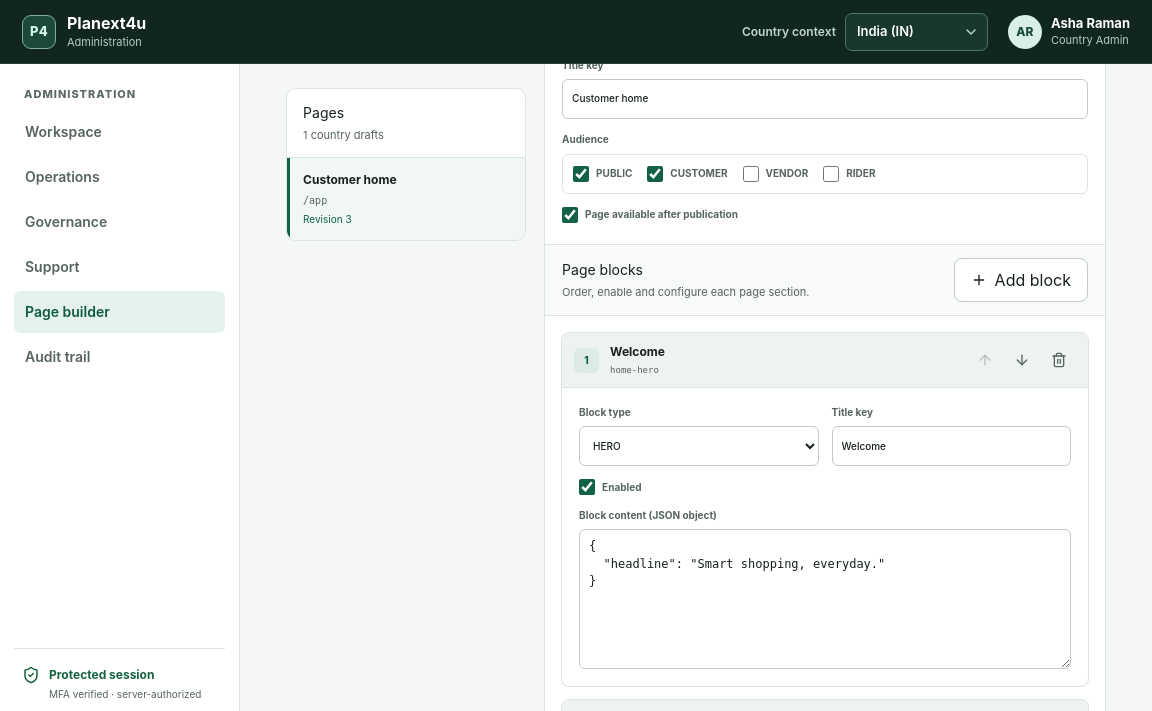
Test case: administrator application › reorders, adds, removes and publishes page blocks through controlled operations
(page scrolled)
expect the button "Add block" is shown: met, box [954, 258, 1088, 302]
Click the button named "Move Welcome down" at (1022, 360), box [1005, 343, 1039, 377]
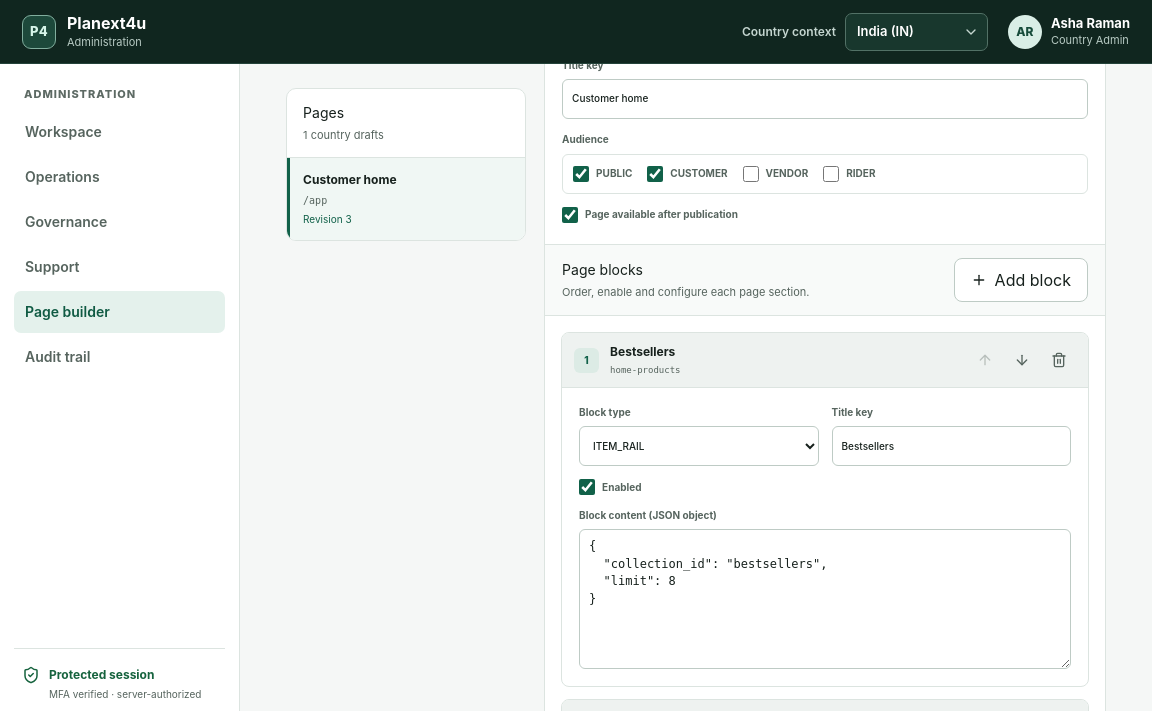
Click the button "Add block" at (1021, 280), box [954, 258, 1088, 302]
(page scrolled)
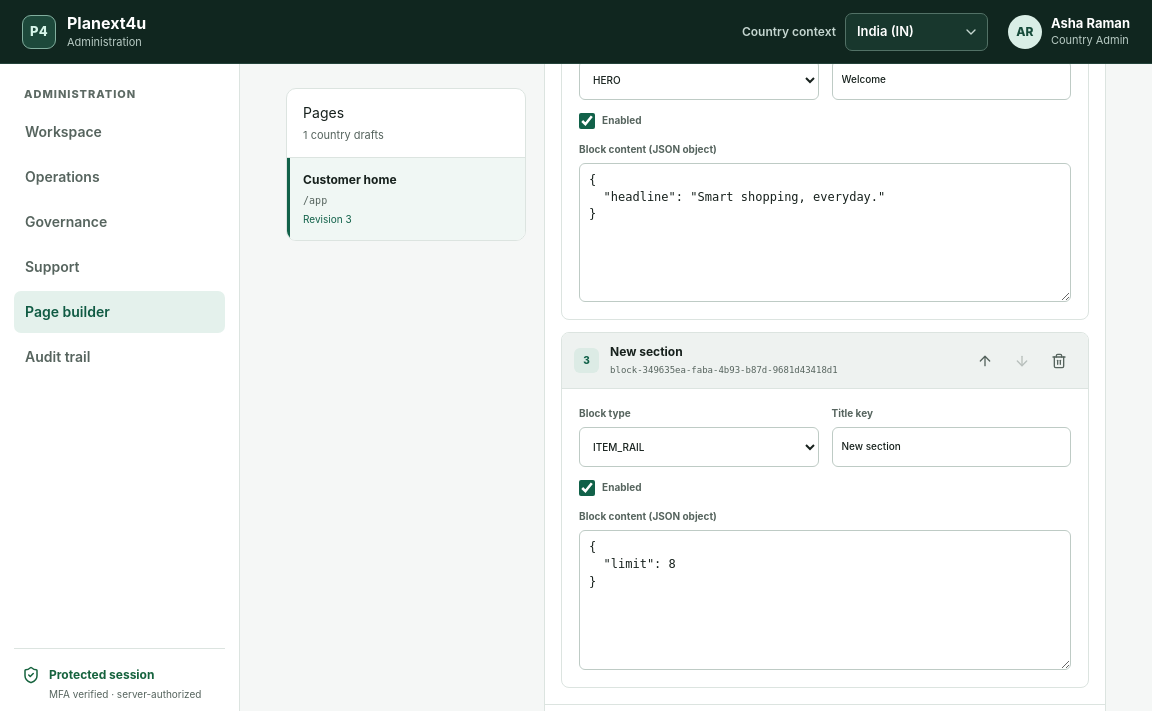
expect the text "New section" is shown: met, box [610, 344, 683, 359]
Click the button named "Remove New section" at (1059, 361), box [1042, 344, 1076, 378]
(page scrolled)
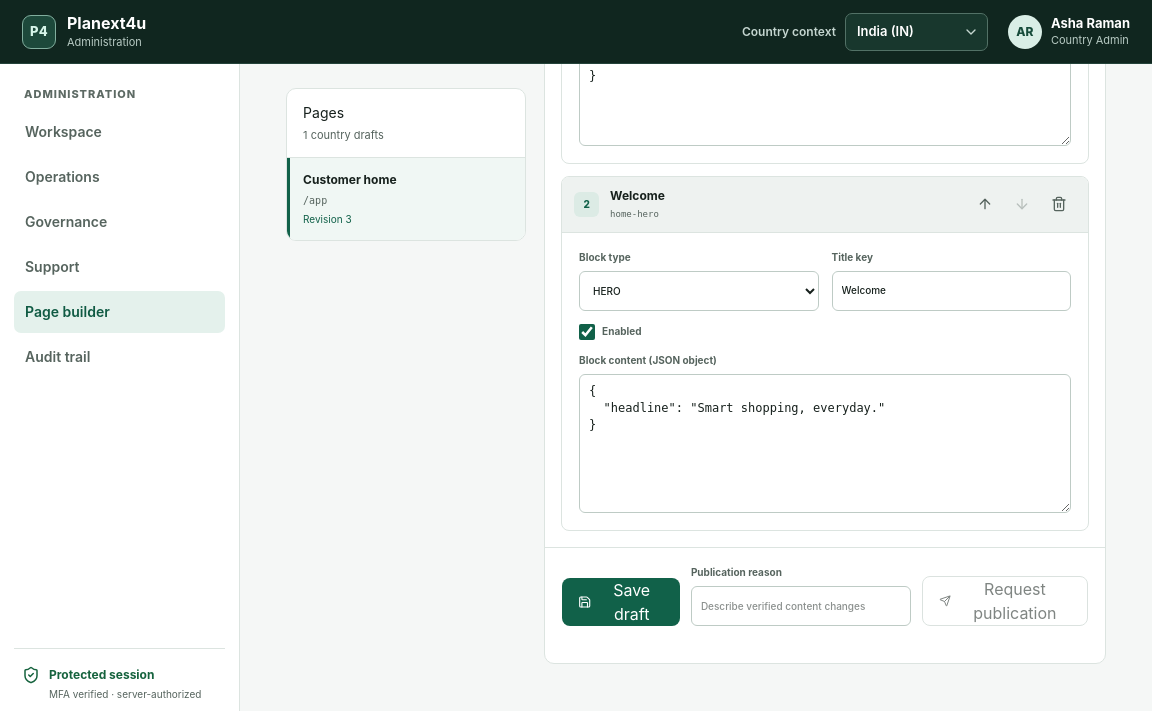
Click the button "Customer home /app Revision 3" at (406, 198), box [287, 158, 525, 240]
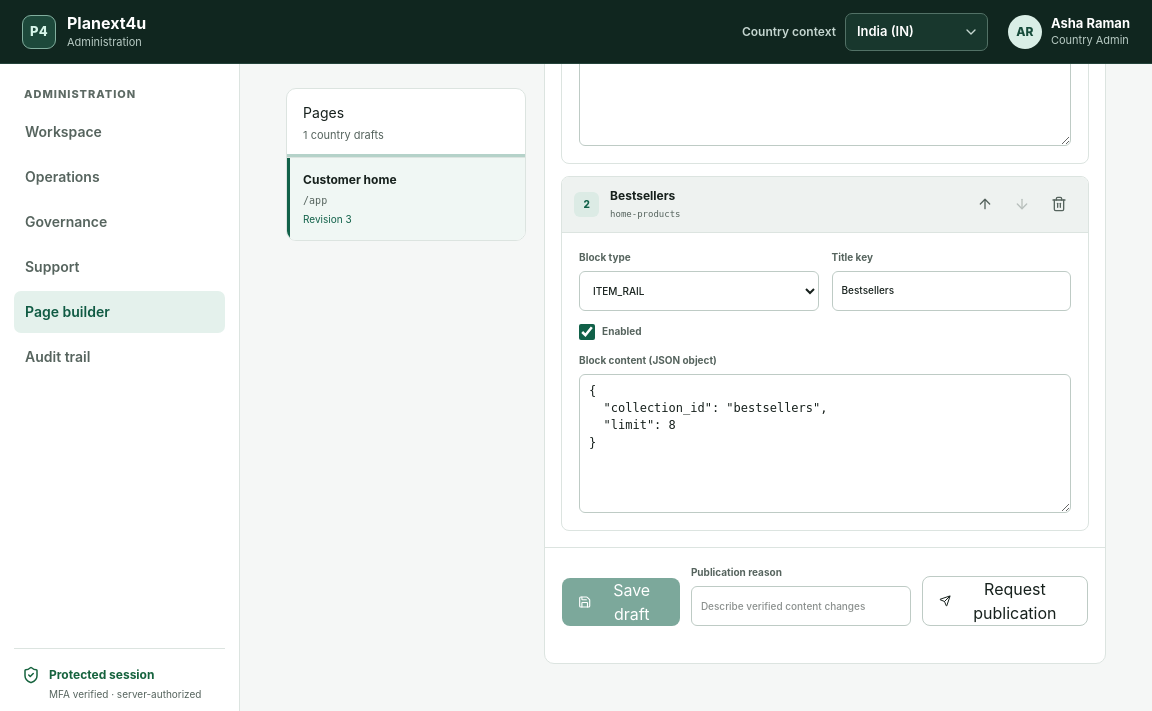
Type "Publish verified storefront blocks" into the field labelled "Publication reason" at (801, 606), box [691, 586, 911, 626]
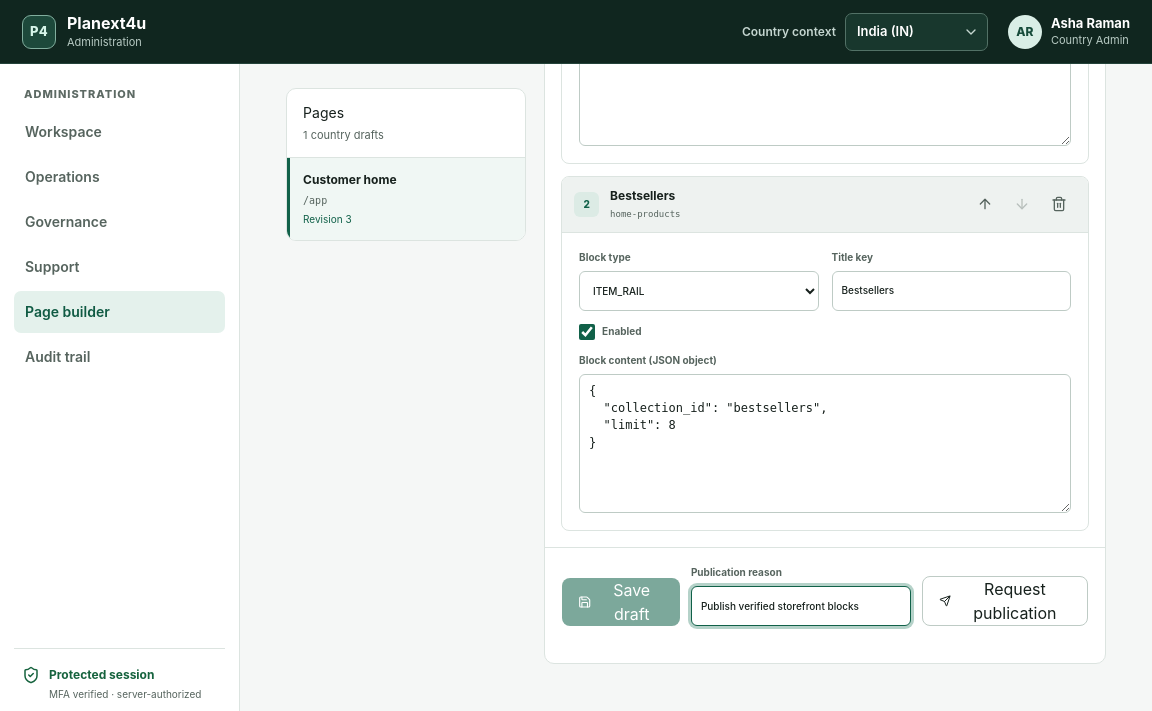
Click the button "Request publication" at (1005, 601), box [922, 576, 1088, 626]
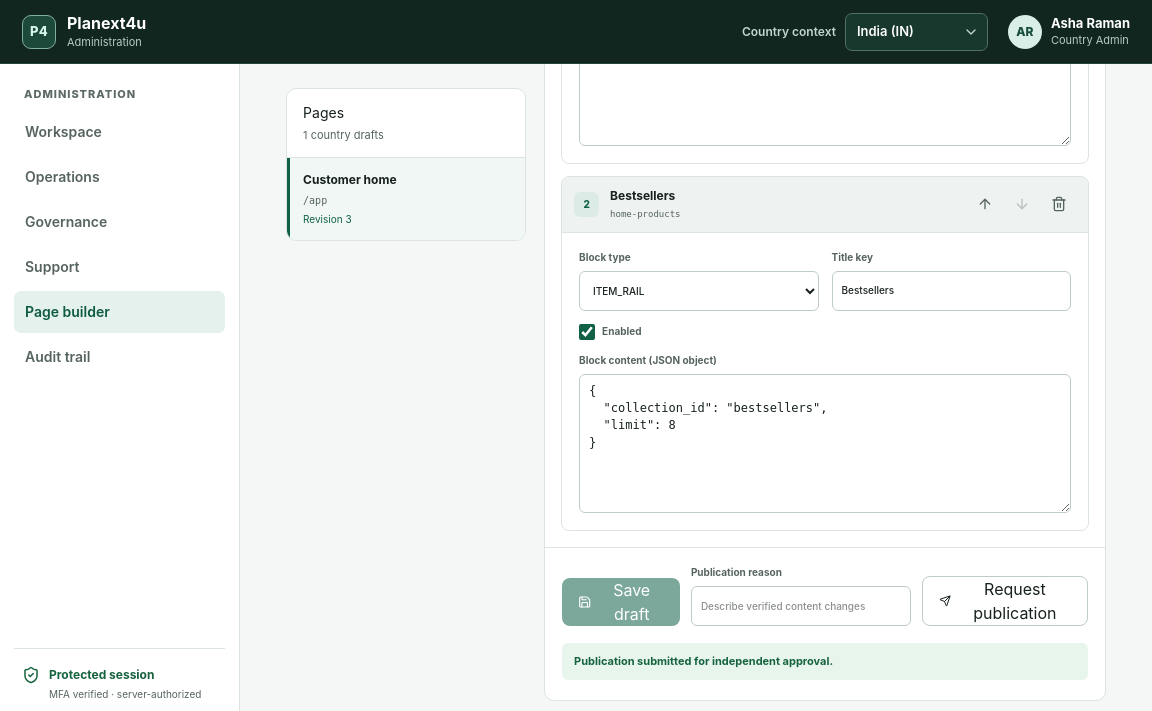
expect the text "Publication submitted for independent approval." is shown: met, box [562, 643, 1088, 680]
